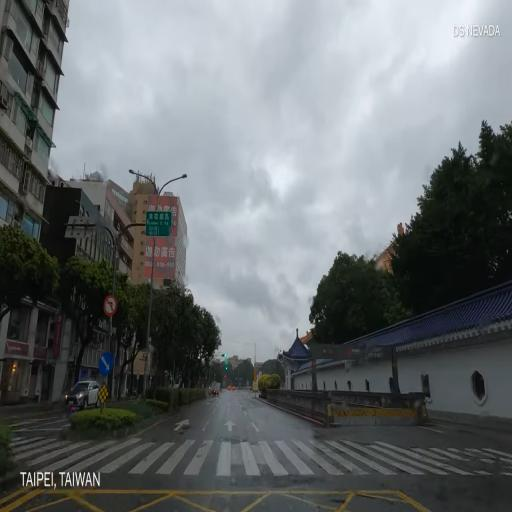Car: (64, 376, 104, 412), (209, 382, 221, 400), (252, 378, 259, 393), (232, 384, 236, 393), (228, 384, 232, 392)
